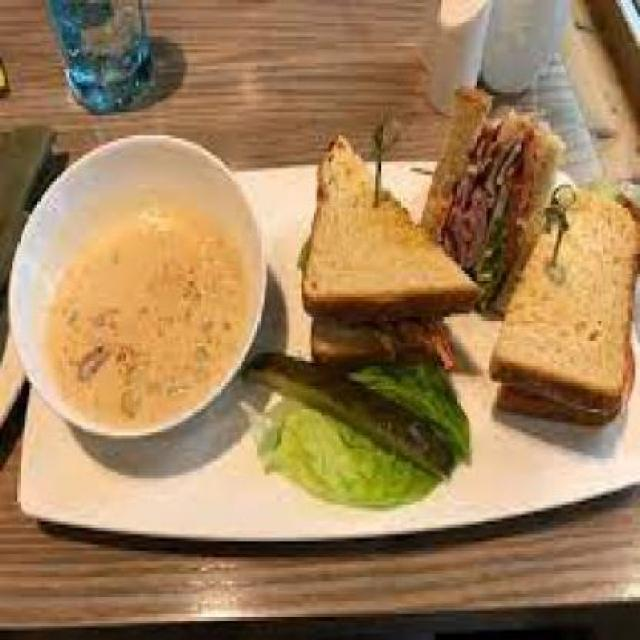clam chowder: (17, 136, 260, 436)
club sandwich: (268, 66, 638, 486)
